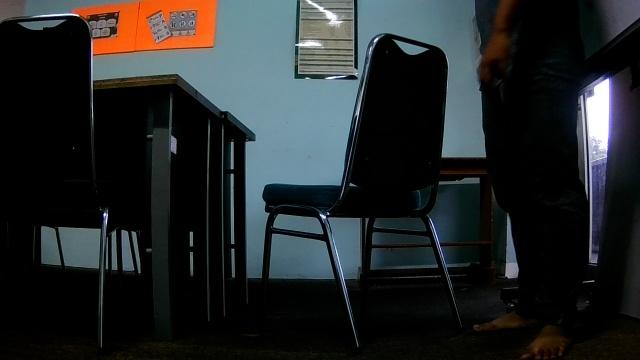Kursi: (260, 31, 463, 351)
